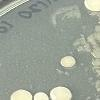white: (49, 84, 75, 100), (57, 52, 79, 70), (80, 0, 100, 15), (10, 88, 34, 100), (32, 91, 51, 100)
